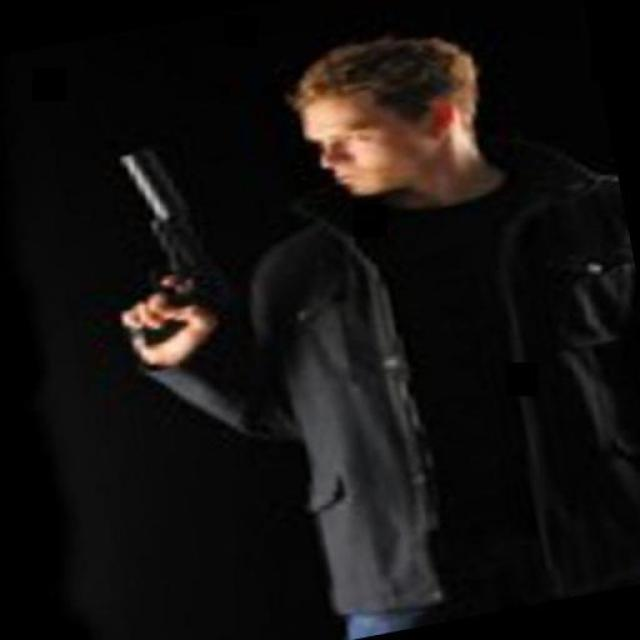gun: (66, 128, 238, 364)
